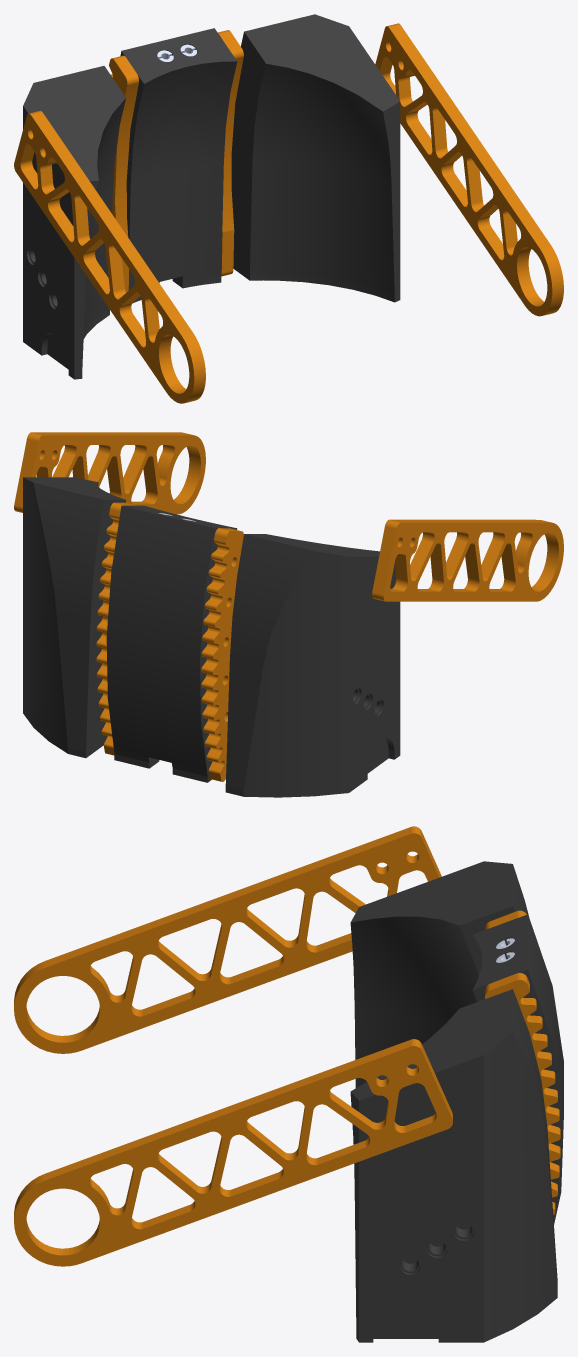
3 views of the same model, one above another, from view 1: azimuth 30°, elevation 25°; view 2: azimuth 150°, elevation 25°; view 3: azimuth 270°, elevation 25° (orthographic). The views are drawn at different scales.
Visible parts, largest first — view 1: 261-4114 v17:1, 261-4106 v10 (×2), 261-4105 v24, 261-4113 v13:1, 261-4112 v18 (×2); view 2: 261-4113 v13:1, 261-4105 v24, 261-4106 v10 (×2), 261-4114 v17:1, 261-4112 v18 (×2); view 3: 261-4114 v17:1, 261-4106 v10 (×2), 261-4113 v13:1, 261-4105 v24, 261-4112 v18.
Part boxes in pixels (x1=…): 261-4114 v17:1: x1=231, y1=14, x2=400, y2=302; 261-4106 v10 (×2): x1=14, y1=23, x2=563, y2=403; 261-4105 v24: x1=120, y1=28, x2=237, y2=303; 261-4113 v13:1: x1=23, y1=66, x2=125, y2=379; 261-4112 v18 (×2): x1=109, y1=30, x2=243, y2=292; 261-4113 v13:1: x1=225, y1=534, x2=400, y2=797; 261-4105 v24: x1=106, y1=505, x2=237, y2=782; 261-4106 v10 (×2): x1=14, y1=432, x2=563, y2=601; 261-4114 v17:1: x1=23, y1=477, x2=126, y2=758; 261-4112 v18 (×2): x1=96, y1=502, x2=243, y2=781; 261-4114 v17:1: x1=350, y1=989, x2=557, y2=1342; 261-4106 v10 (×2): x1=14, y1=826, x2=452, y2=1266; 261-4113 v13:1: x1=350, y1=861, x2=528, y2=1087; 261-4105 v24: x1=473, y1=914, x2=563, y2=1224; 261-4112 v18: x1=485, y1=973, x2=560, y2=1214.
Size of the model in its own units: 0.2016 by 0.1325 by 0.2134.
